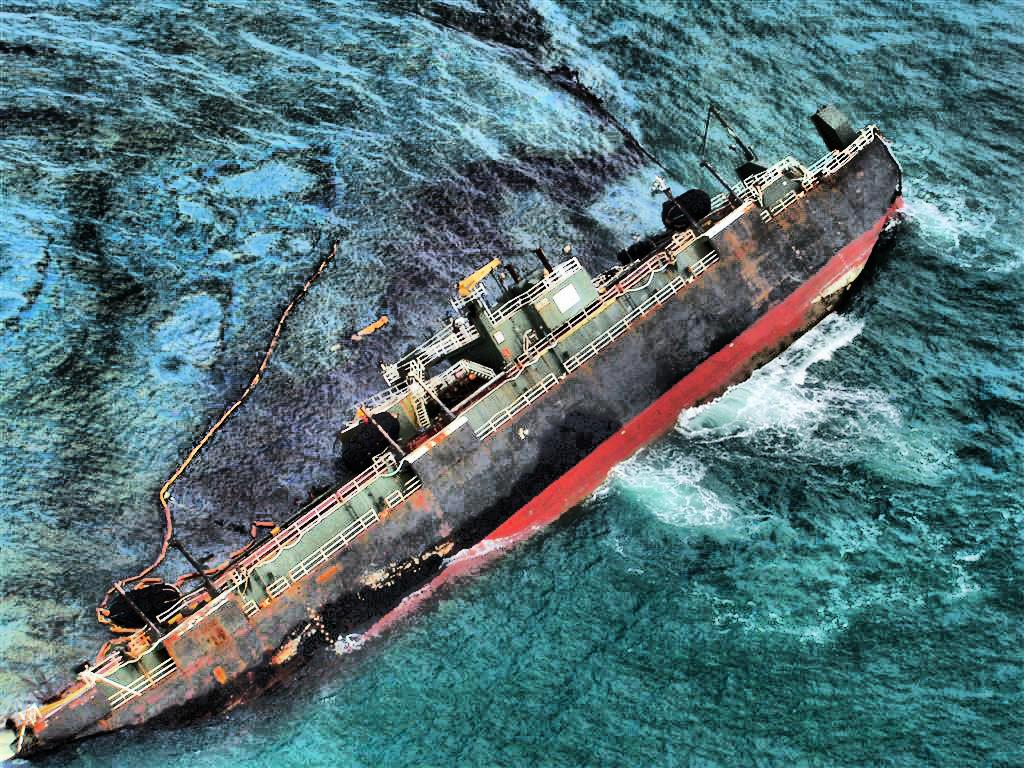truecolor: (323, 1, 670, 432), (174, 448, 335, 528)
